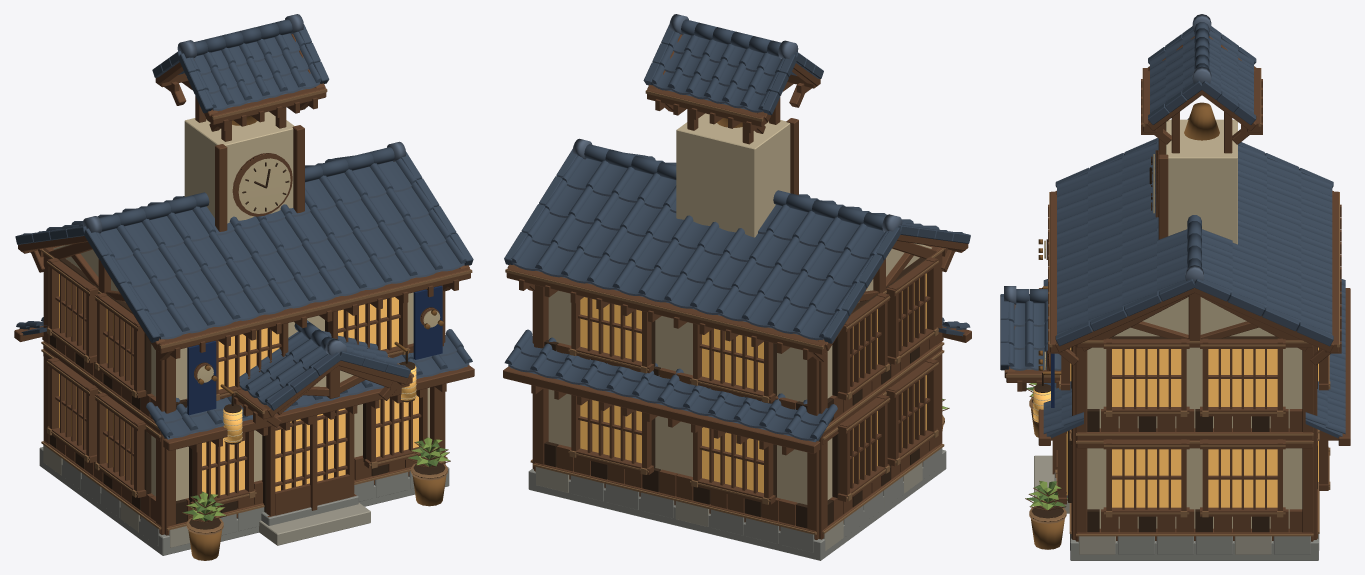
3 renders of one model, left to right at view 1: azimuth 30°, elevation 25°; view 2: azimuth 150°, elevation 25°; view 3: azimuth 270°, elevation 25°, orthographic.
Parts seen in each view (by area): view 1: compact_civic_hall_geometry, compact_civic_hall_geometry ceramic; view 2: compact_civic_hall_geometry, compact_civic_hall_geometry ceramic; view 3: compact_civic_hall_geometry, compact_civic_hall_geometry ceramic.
Part boxes in pixels (x1=…): compact_civic_hall_geometry: x1=14, y1=34, x2=474, y2=560; compact_civic_hall_geometry ceramic: x1=15, y1=14, x2=473, y2=439; compact_civic_hall_geometry: x1=503, y1=34, x2=971, y2=560; compact_civic_hall_geometry ceramic: x1=504, y1=14, x2=970, y2=442; compact_civic_hall_geometry: x1=1004, y1=36, x2=1350, y2=560; compact_civic_hall_geometry ceramic: x1=1000, y1=14, x2=1345, y2=438.
Bounding box in the file's own units: 1.04 × 1.38 × 0.977.
